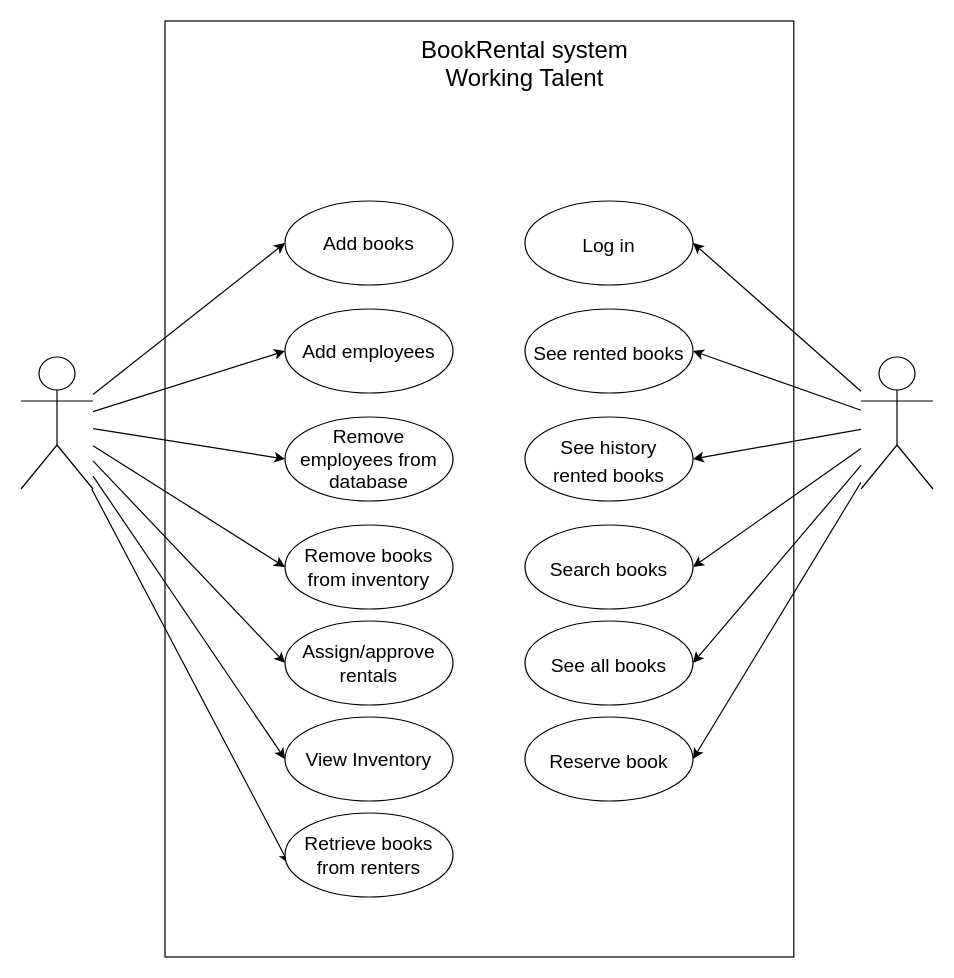
Image size: 954x978. Some labels were removed from this diagram. The centre of each missing label's shape, as x and y in pixels:
Admin: point 56,422
User: point 896,422
